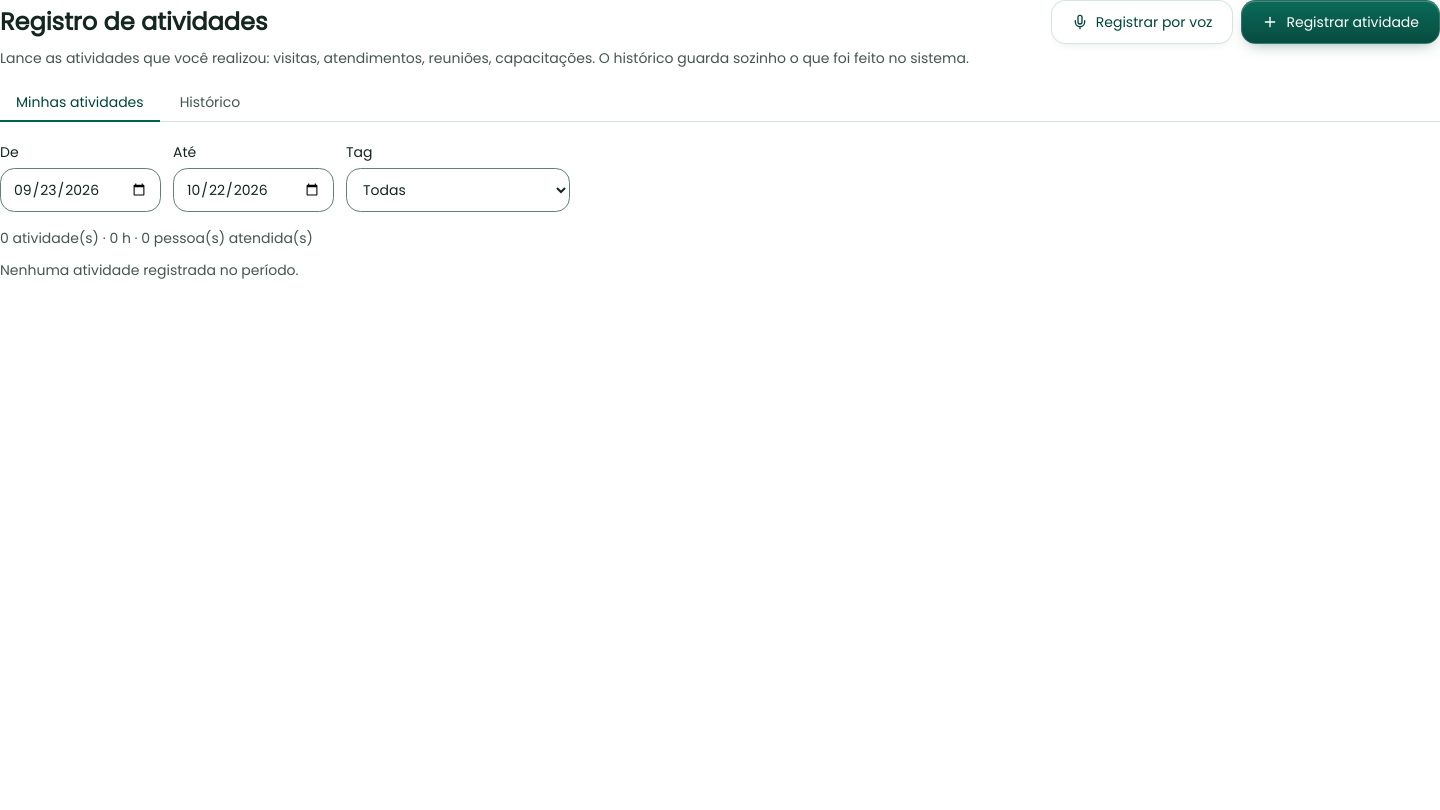
it: Registro de atividades › registra uma atividade, valida o horário e anota no histórico
Click the button "Registrar atividade": (1341, 22) [1242, 0, 1439, 44]
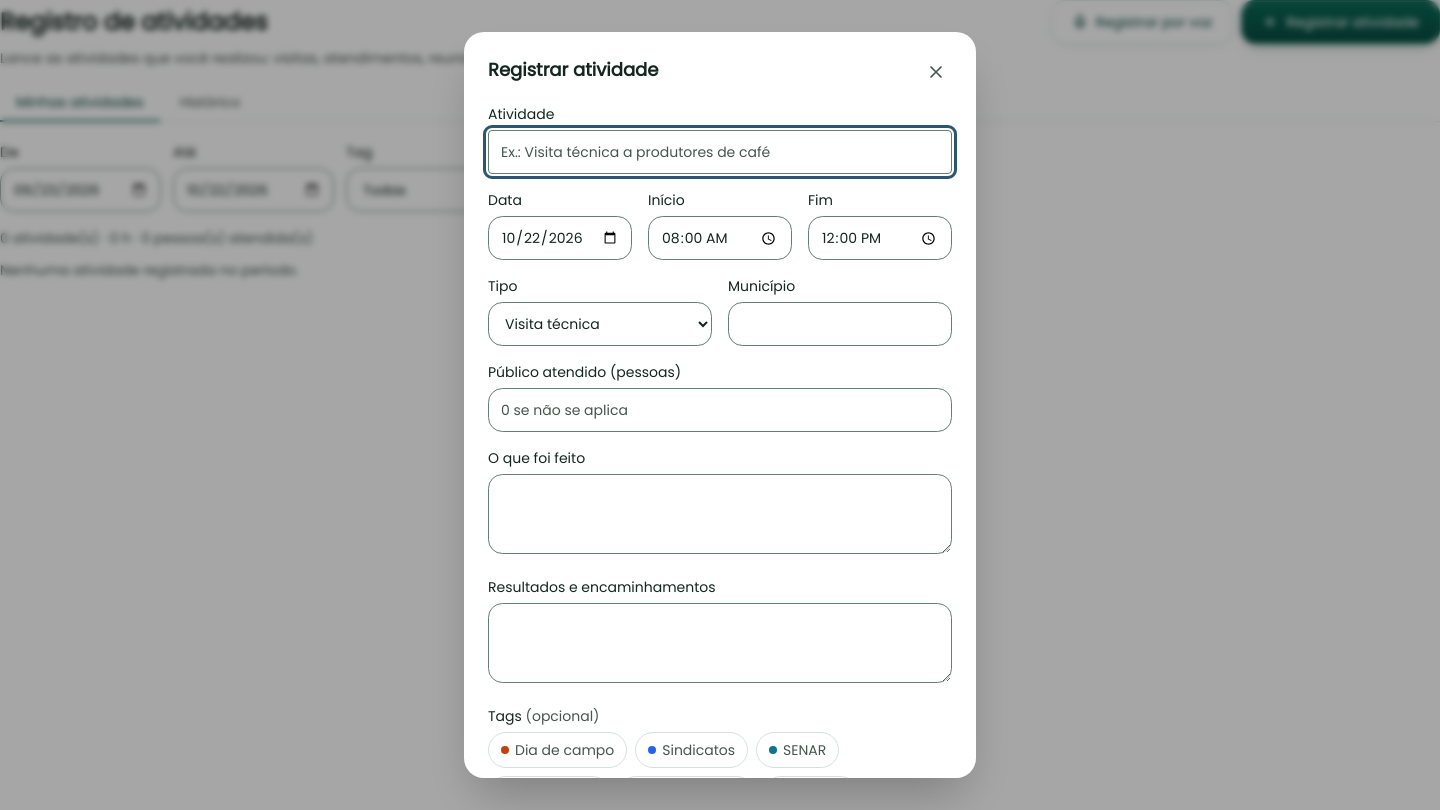
In the field labelled "Atividade": (720, 152) [488, 130, 952, 174], type "Atendimento a produtores de leite"
Replace the text in the time field labelled "Fim" with "07:00": (880, 238) [808, 216, 952, 260]
(page scrolled)
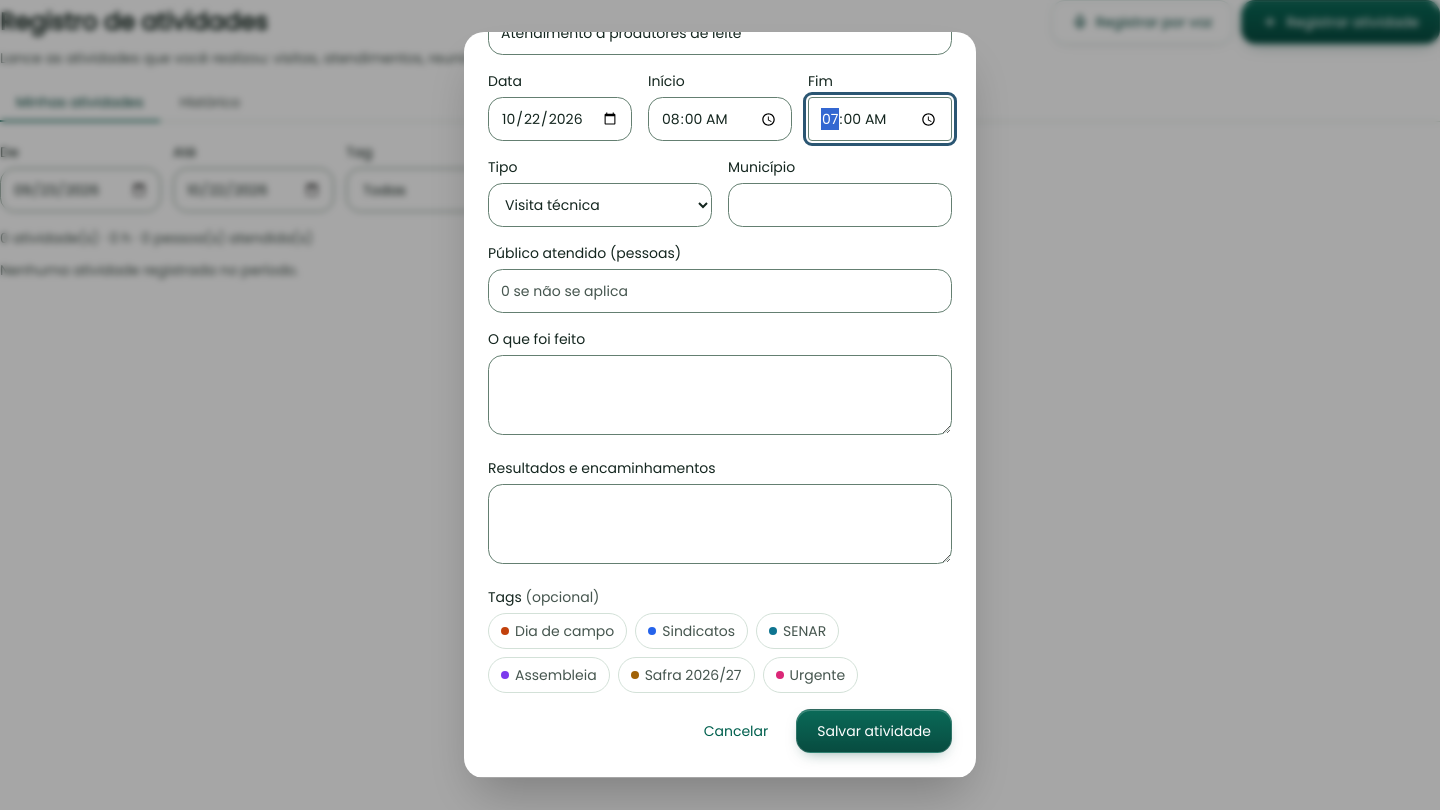
Click the button "Salvar atividade": (874, 731) [796, 709, 952, 753]
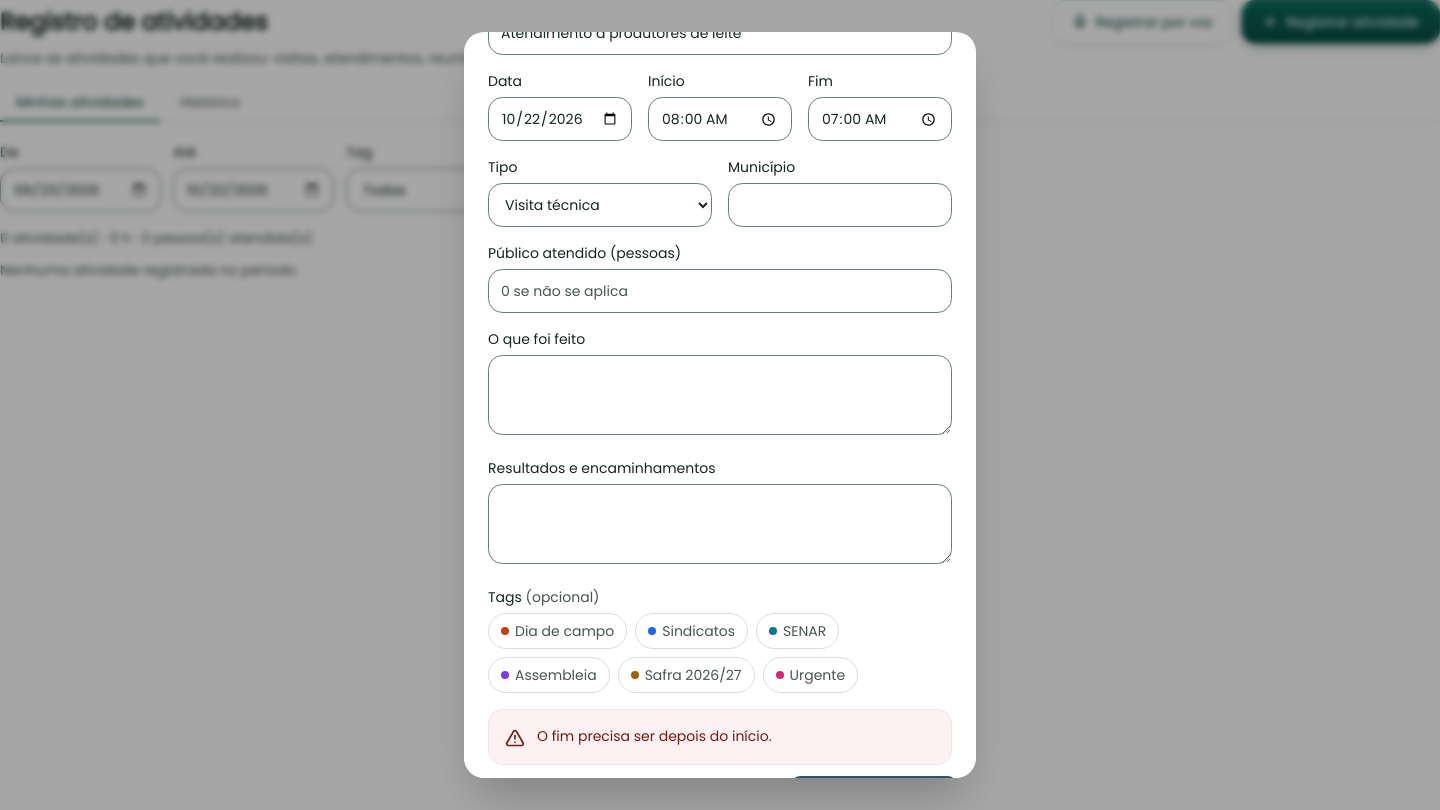
Check: the message reads "O fim precisa ser depois do início.", box [537, 726, 772, 746]
Replace the text in the time field labelled "Fim" with "11:30": (880, 119) [808, 97, 952, 141]
In the field labelled "Município": (840, 205) [728, 183, 952, 227], type "Jaru"
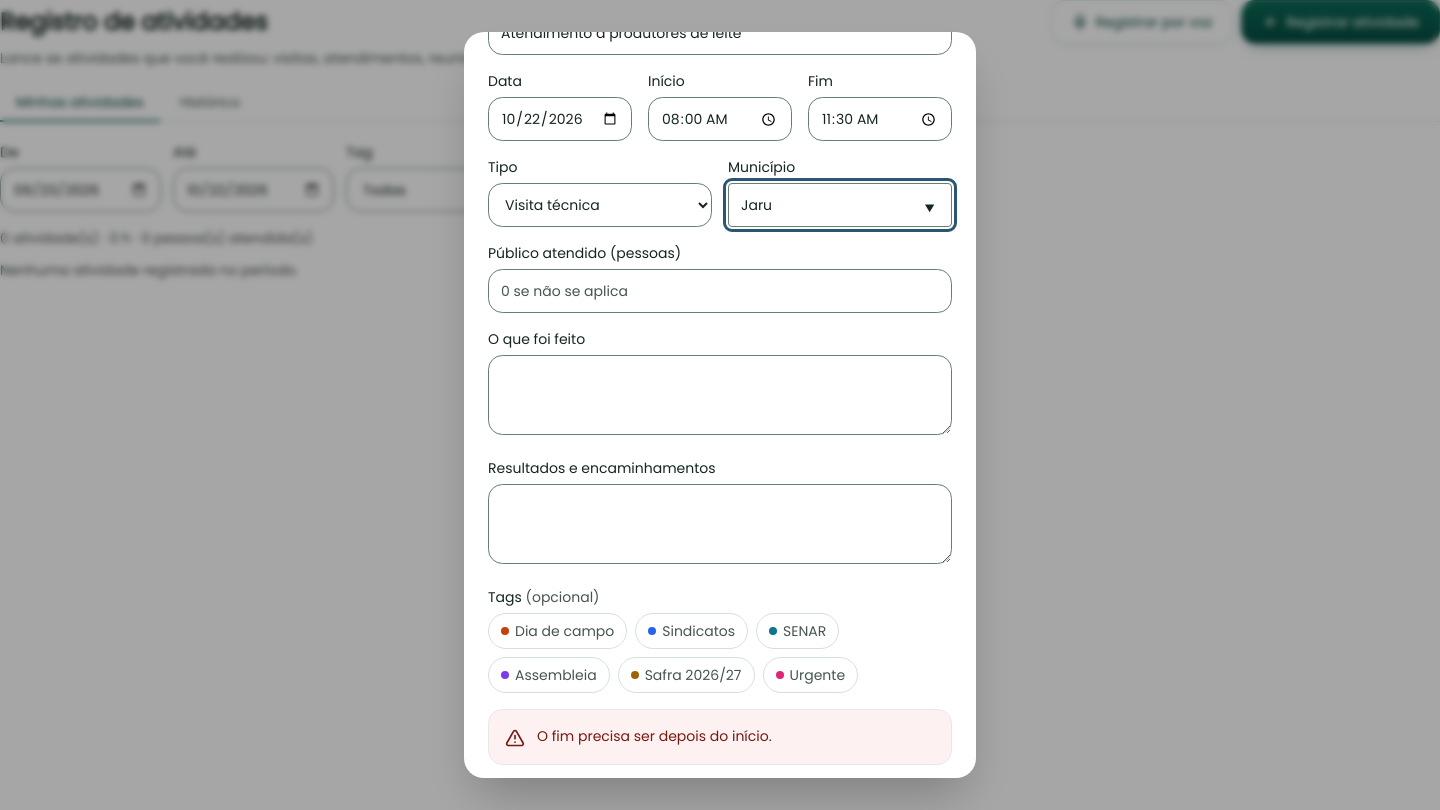
In the field labelled "Público atendido (pessoas)": (720, 291) [488, 269, 952, 313], type "14"
(page scrolled)
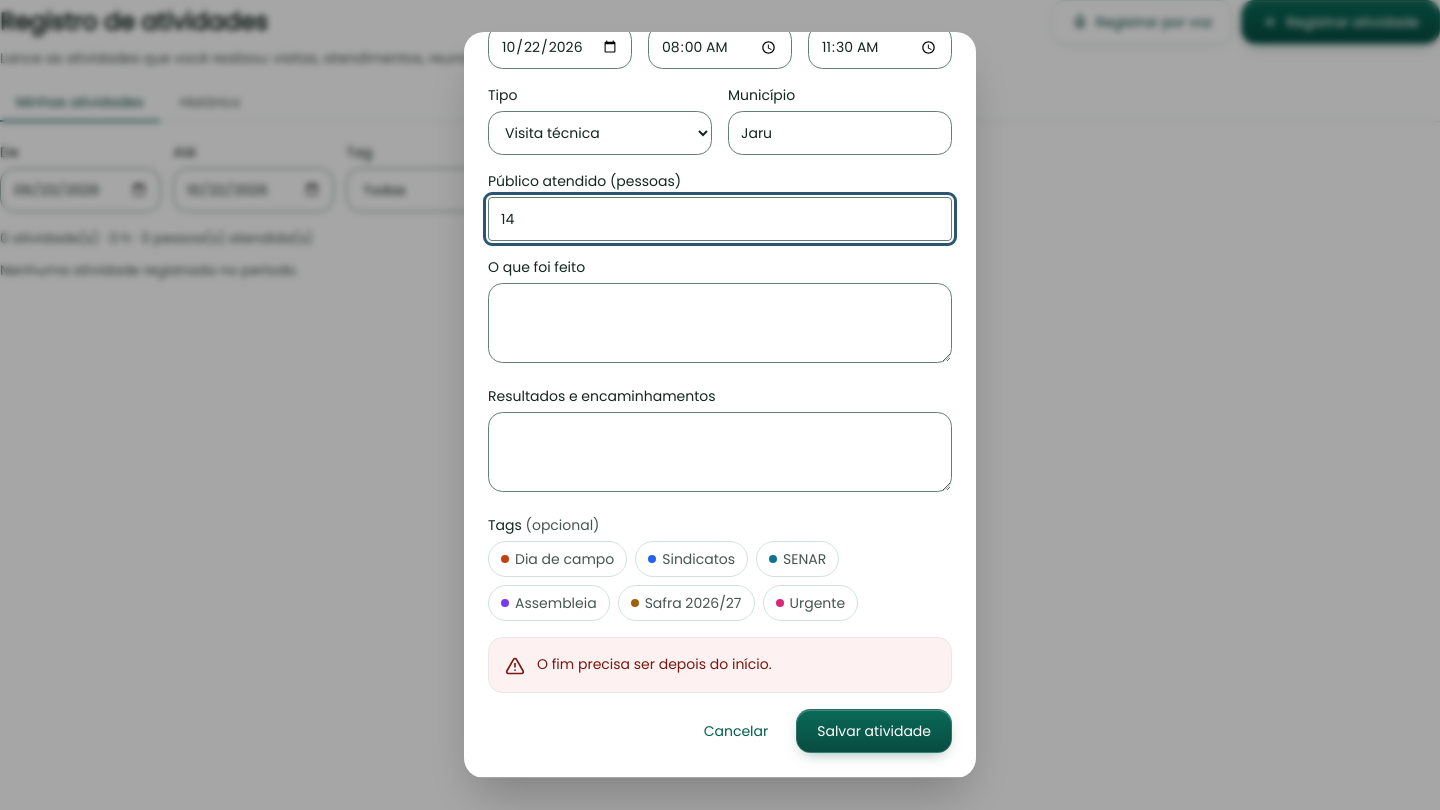
Click the button "Salvar atividade": (874, 731) [796, 709, 952, 753]
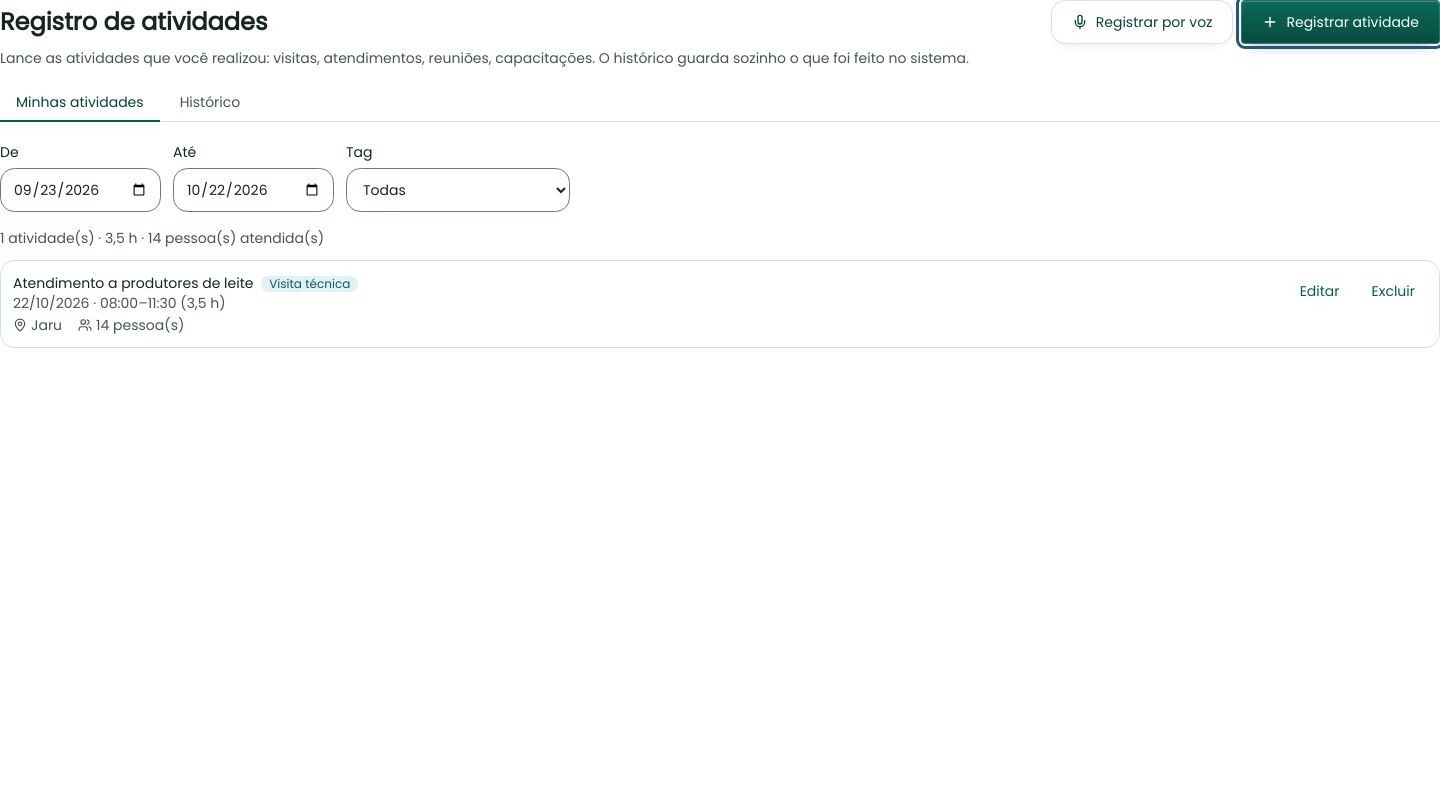
Check: the text "Atendimento a produtores de leite" is shown, box [13, 273, 253, 293]
